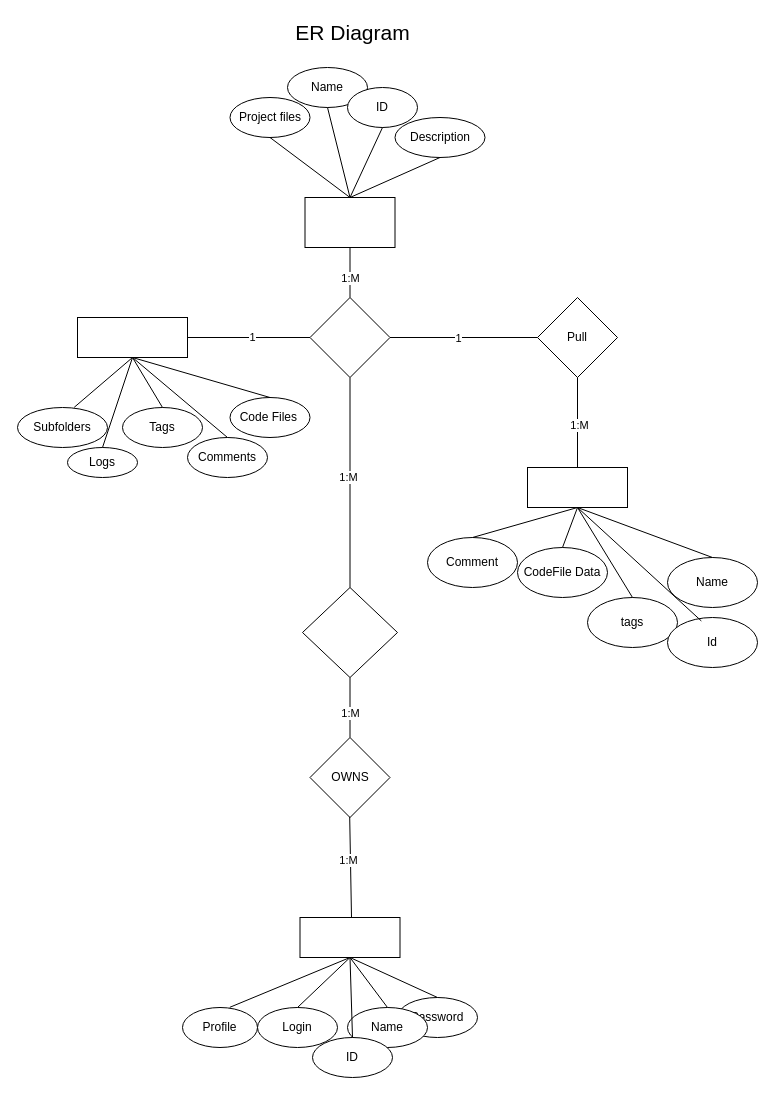
Image size: 775x1095. Some labels were removed from this diagram. Here are the shapes that lost their labels. From the top down, the centre of each, then its label:
At pixel 349 222: "Repository".
At pixel 132 337: "Commit".
At pixel 349 337: "Commits 1".
At pixel 577 487: "Code Editior".
At pixel 350 632: "Contributes".
At pixel 349 937: "User".
